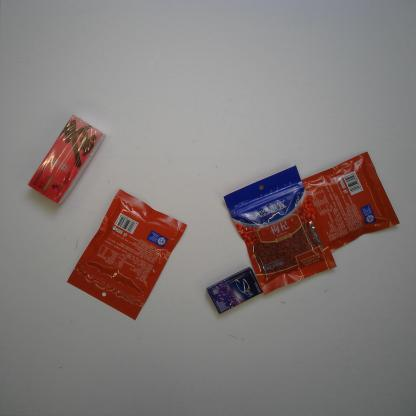Dried Fruit: (66, 189, 188, 322), (223, 165, 338, 296), (289, 151, 401, 254)
Gum: (206, 266, 264, 315)
Instant Drink: (27, 114, 106, 205)
